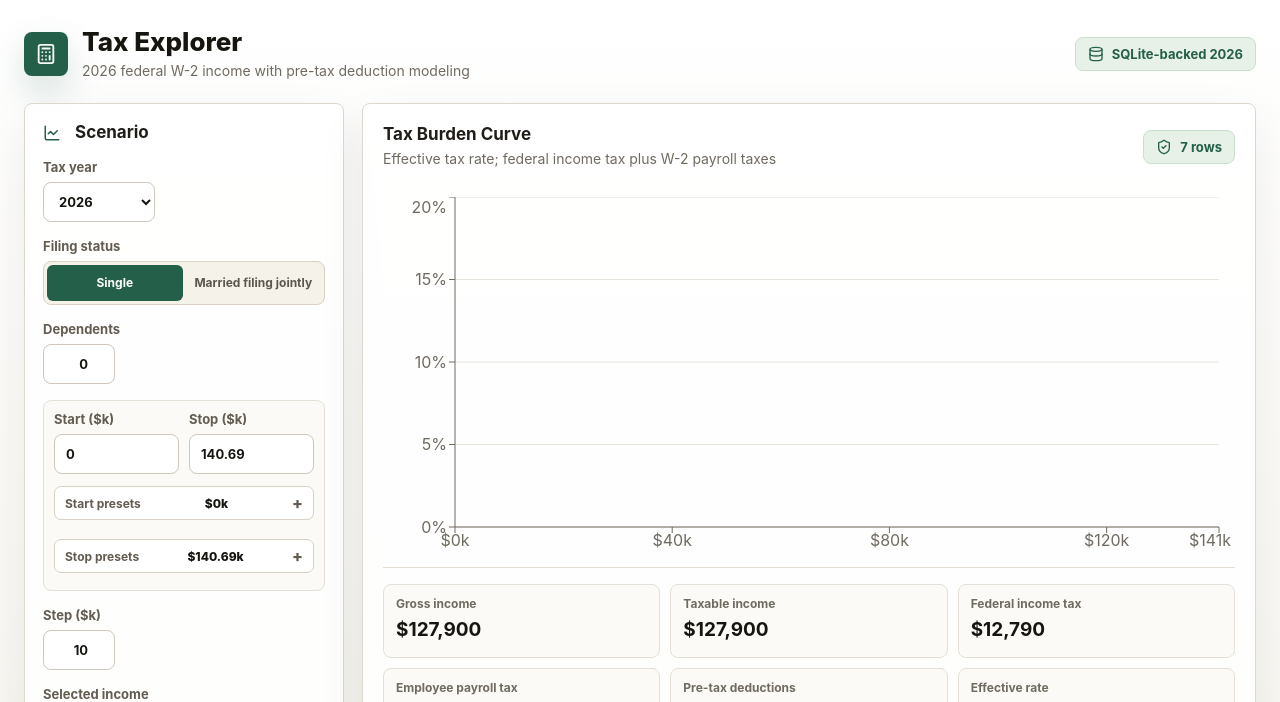
Test: App tax curve controls › clears stale filing statuses when a later tax year has none
expect the heading "Tax Burden Curve" is shown: met, box [383,124,531,144]
expect the number field labelled "Stop ($k)" holds "140.69": met, box [189,434,314,474]
Select "2025" in the dropdown labelled "Tax year": (99, 202) [43,182,155,222]
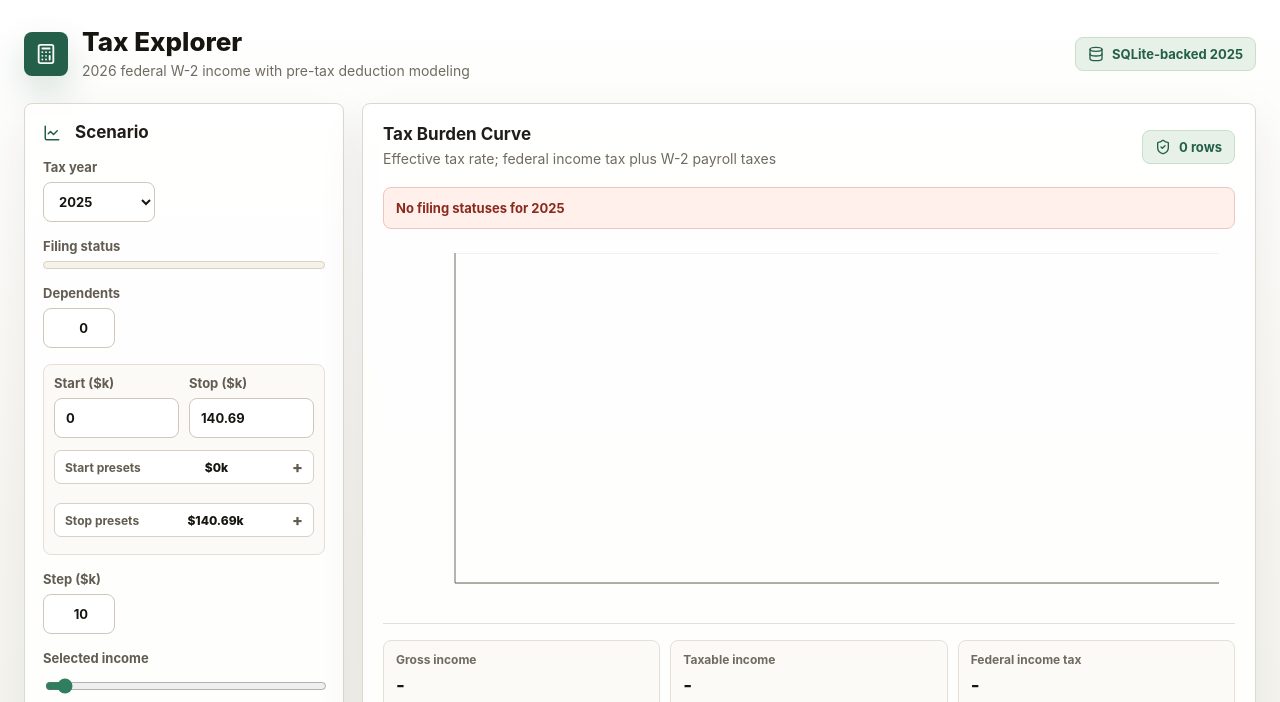
expect the text "No filing statuses for 2025" is shown: met, box [383,187,1235,229]
expect the radio button labelled "Single" is gone: met
expect the radio button labelled "Married filing jointly" is gone: met
